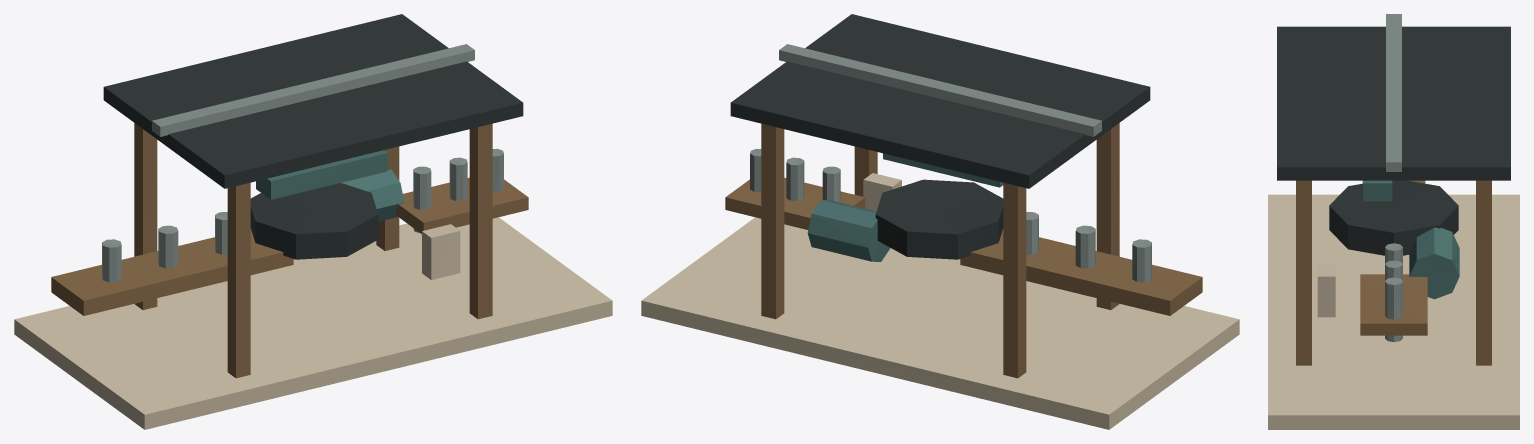
File: lumber-mill.source.glb
The picture shows the model from 3 angles, left to right: view 1: azimuth 30°, elevation 25°; view 2: azimuth 150°, elevation 25°; view 3: azimuth 270°, elevation 25°; orthographic projection. The views are drawn at different scales.
Visible parts, largest first — view 1: lumber-mill-concrete-strip-mesh, lumber-mill-roof-mesh, lumber-mill-raised-feed-table-mesh, lumber-mill-circular-saw-housing-mesh, lumber-mill-roof-ridge-mesh, lumber-mill-timber-frame-post-3-mesh, lumber-mill-timber-frame-post-2-mesh, lumber-mill-outfeed-roller-bed-mesh, lumber-mill-timber-frame-post-0-mesh, lumber-mill-saw-guard-mesh, lumber-mill-control-panel-mesh, lumber-mill-sawmill-motor-mesh (+5 smaller); view 2: lumber-mill-concrete-strip-mesh, lumber-mill-roof-mesh, lumber-mill-circular-saw-housing-mesh, lumber-mill-raised-feed-table-mesh, lumber-mill-roof-ridge-mesh, lumber-mill-timber-frame-post-1-mesh, lumber-mill-timber-frame-post-0-mesh, lumber-mill-sawmill-motor-mesh, lumber-mill-timber-frame-post-2-mesh, lumber-mill-outfeed-roller-bed-mesh, lumber-mill-feed-roller--1.8-mesh, lumber-mill-control-panel-mesh (+5 smaller); view 3: lumber-mill-concrete-strip-mesh, lumber-mill-roof-mesh, lumber-mill-circular-saw-housing-mesh, lumber-mill-outfeed-roller-bed-mesh, lumber-mill-timber-frame-post-1-mesh, lumber-mill-timber-frame-post-3-mesh, lumber-mill-sawmill-motor-mesh, lumber-mill-roof-ridge-mesh, lumber-mill-control-panel-mesh, lumber-mill-outfeed-roller-2.25-mesh, lumber-mill-saw-guard-mesh, lumber-mill-outfeed-roller-1.35-mesh (+1 smaller).
Part boxes in pixels (left/top/right/bottom): lumber-mill-concrete-strip-mesh: left=14, top=217, right=612, bottom=429; lumber-mill-roof-mesh: left=103, top=14, right=523, bottom=188; lumber-mill-raised-feed-table-mesh: left=51, top=228, right=293, bottom=315; lumber-mill-circular-saw-housing-mesh: left=250, top=183, right=378, bottom=259; lumber-mill-roof-ridge-mesh: left=152, top=44, right=474, bottom=136; lumber-mill-timber-frame-post-3-mesh: left=469, top=123, right=492, bottom=319; lumber-mill-timber-frame-post-2-mesh: left=227, top=182, right=250, bottom=378; lumber-mill-outfeed-roller-bed-mesh: left=395, top=177, right=528, bottom=233; lumber-mill-timber-frame-post-0-mesh: left=134, top=123, right=157, bottom=309; lumber-mill-saw-guard-mesh: left=256, top=150, right=387, bottom=199; lumber-mill-control-panel-mesh: left=422, top=224, right=460, bottom=279; lumber-mill-sawmill-motor-mesh: left=341, top=169, right=404, bottom=221; lumber-mill-concrete-strip-mesh: left=641, top=217, right=1239, bottom=429; lumber-mill-roof-mesh: left=730, top=14, right=1150, bottom=188; lumber-mill-circular-saw-housing-mesh: left=875, top=179, right=1003, bottom=259; lumber-mill-raised-feed-table-mesh: left=960, top=228, right=1202, bottom=315; lumber-mill-roof-ridge-mesh: left=779, top=44, right=1101, bottom=136; lumber-mill-timber-frame-post-1-mesh: left=761, top=123, right=784, bottom=319; lumber-mill-timber-frame-post-0-mesh: left=1003, top=182, right=1026, bottom=378; lumber-mill-sawmill-motor-mesh: left=807, top=200, right=890, bottom=261; lumber-mill-timber-frame-post-2-mesh: left=1096, top=123, right=1119, bottom=309; lumber-mill-outfeed-roller-bed-mesh: left=725, top=177, right=865, bottom=229; lumber-mill-feed-roller--1.8-mesh: left=1075, top=225, right=1095, bottom=268; lumber-mill-control-panel-mesh: left=863, top=173, right=901, bottom=211; lumber-mill-concrete-strip-mesh: left=1268, top=194, right=1519, bottom=429; lumber-mill-roof-mesh: left=1277, top=26, right=1510, bottom=180; lumber-mill-circular-saw-housing-mesh: left=1329, top=180, right=1458, bottom=255; lumber-mill-outfeed-roller-bed-mesh: left=1360, top=274, right=1427, bottom=335; lumber-mill-timber-frame-post-1-mesh: left=1476, top=180, right=1491, bottom=365; lumber-mill-timber-frame-post-3-mesh: left=1296, top=180, right=1311, bottom=365; lumber-mill-sawmill-motor-mesh: left=1409, top=227, right=1459, bottom=299; lumber-mill-roof-ridge-mesh: left=1386, top=14, right=1401, bottom=171; lumber-mill-control-panel-mesh: left=1317, top=263, right=1335, bottom=317; lumber-mill-outfeed-roller-2.25-mesh: left=1385, top=277, right=1402, bottom=341; lumber-mill-saw-guard-mesh: left=1363, top=180, right=1392, bottom=201; lumber-mill-outfeed-roller-1.35-mesh: left=1385, top=243, right=1402, bottom=263.
Bounding box in the file's own units: 5.95 × 2.84 × 2.8.
